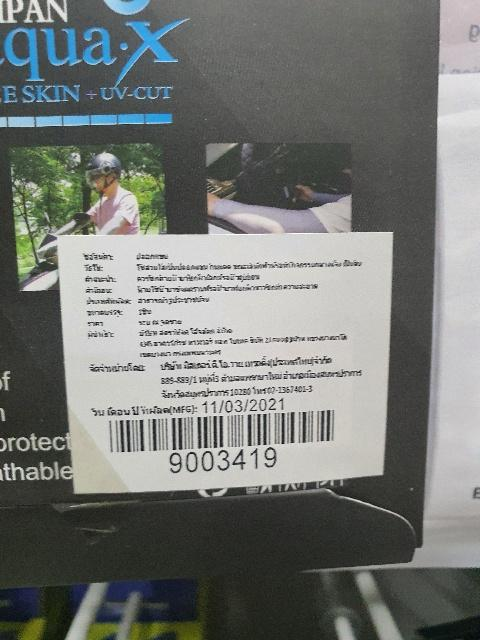Barcode: (100, 402, 348, 470)
